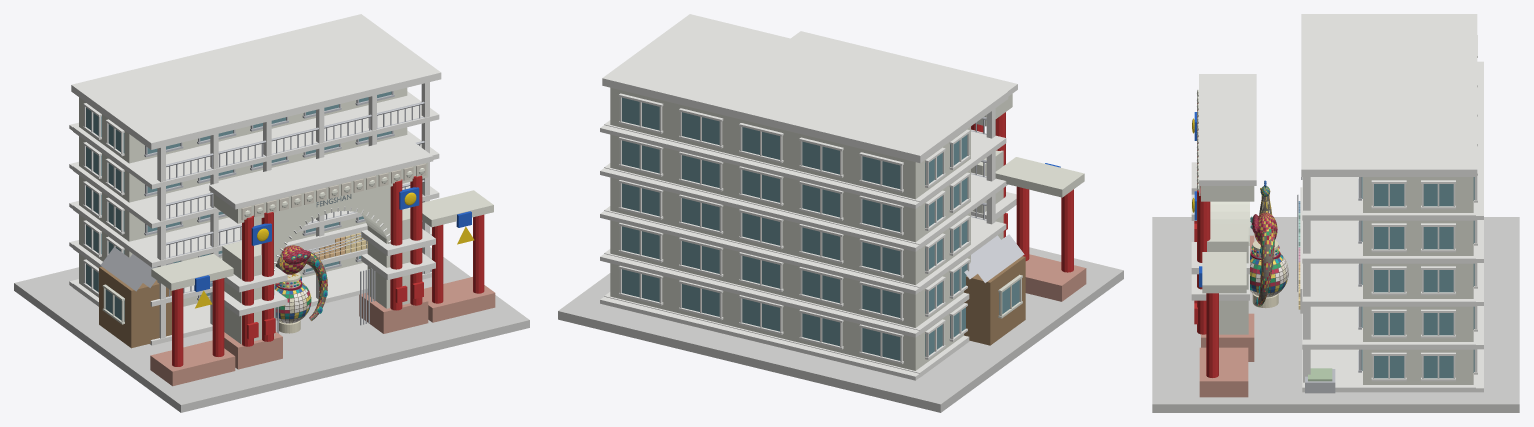
The model's file is dot-X1.glb.
3 views of the same model, side by side, from view 1: azimuth 30°, elevation 25°; view 2: azimuth 150°, elevation 25°; view 3: azimuth 270°, elevation 25° (orthographic). The views are drawn at different scales.
Visible parts, largest first — view 1: pave; view 2: pave; view 3: pave.
Part boxes in pixels (x1,y1,x2,y2): pave: (14, 14, 529, 412); pave: (558, 14, 1123, 412); pave: (1152, 14, 1519, 412).
Bounding box in the file's own units: 6.08 × 3.52 × 5.04.
Materials: 1 (1 with a texture image).
